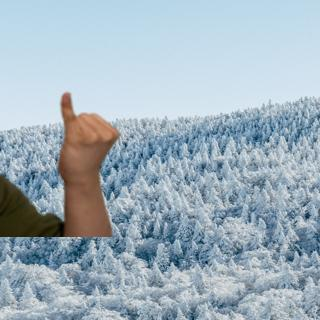FINE: (49, 88, 123, 186)
